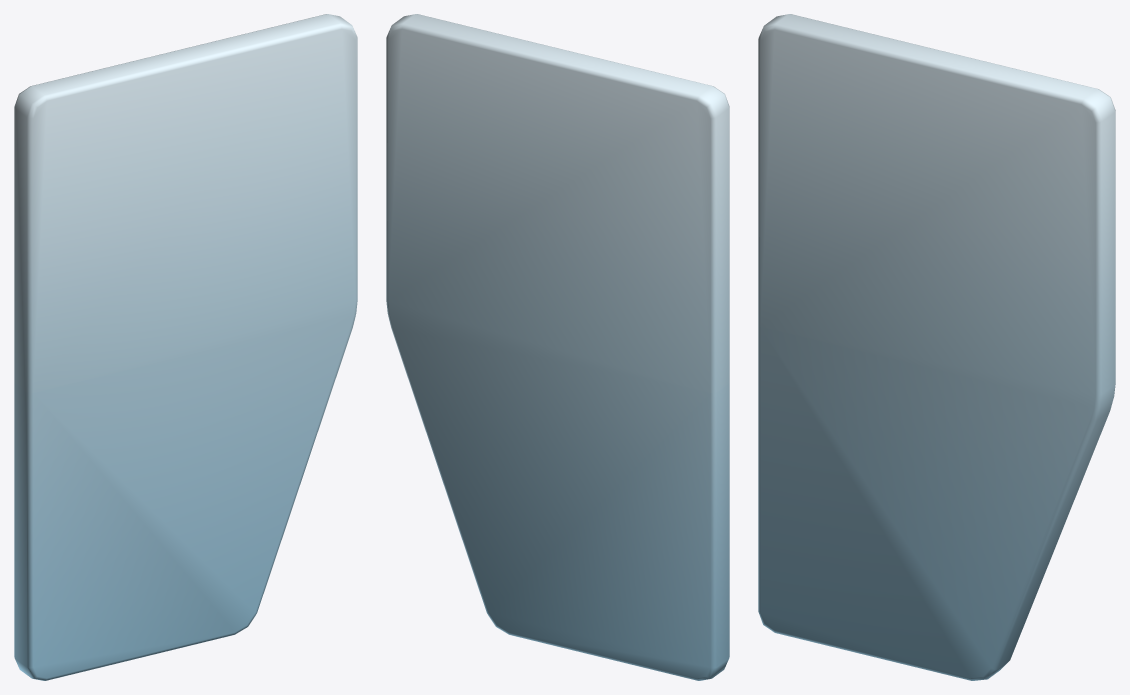
The model's file is SM_wcwall.fbx.
3 views of the same model, side by side, from view 1: azimuth 30°, elevation 25°; view 2: azimuth 150°, elevation 25°; view 3: azimuth 330°, elevation 25° (orthographic). The views are drawn at different scales.
Visible parts, largest first — view 1: Cube.007; view 2: Cube.007; view 3: Cube.007.
Boxes of the visible parts, x1,y1,x2,y2 form: Cube.007: (14,14,357,680); Cube.007: (386,14,729,680); Cube.007: (758,14,1115,680).
Bounding box in the file's own units: 139 × 236 × 12.41.
